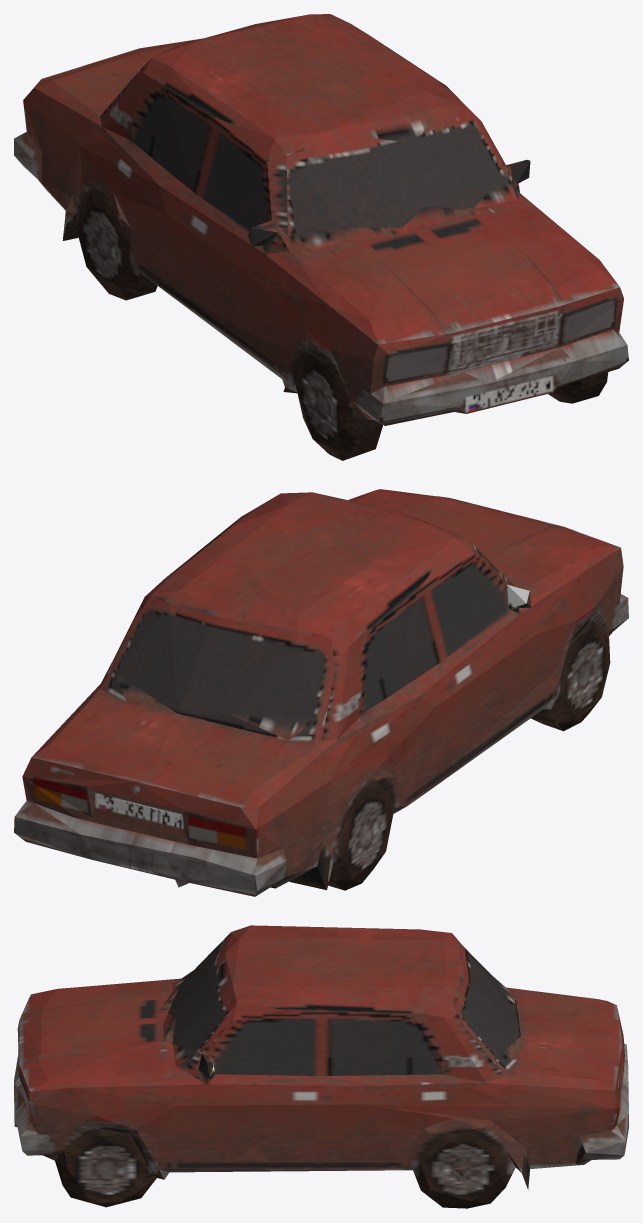
3 renders of one model, top to bottom at view 1: azimuth 30°, elevation 25°; view 2: azimuth 150°, elevation 25°; view 3: azimuth 270°, elevation 25°, orthographic. The views are drawn at different scales.
Bounding box in the file's own units: 1.78 × 1.48 × 4.16.
1 material, 1 textured.
